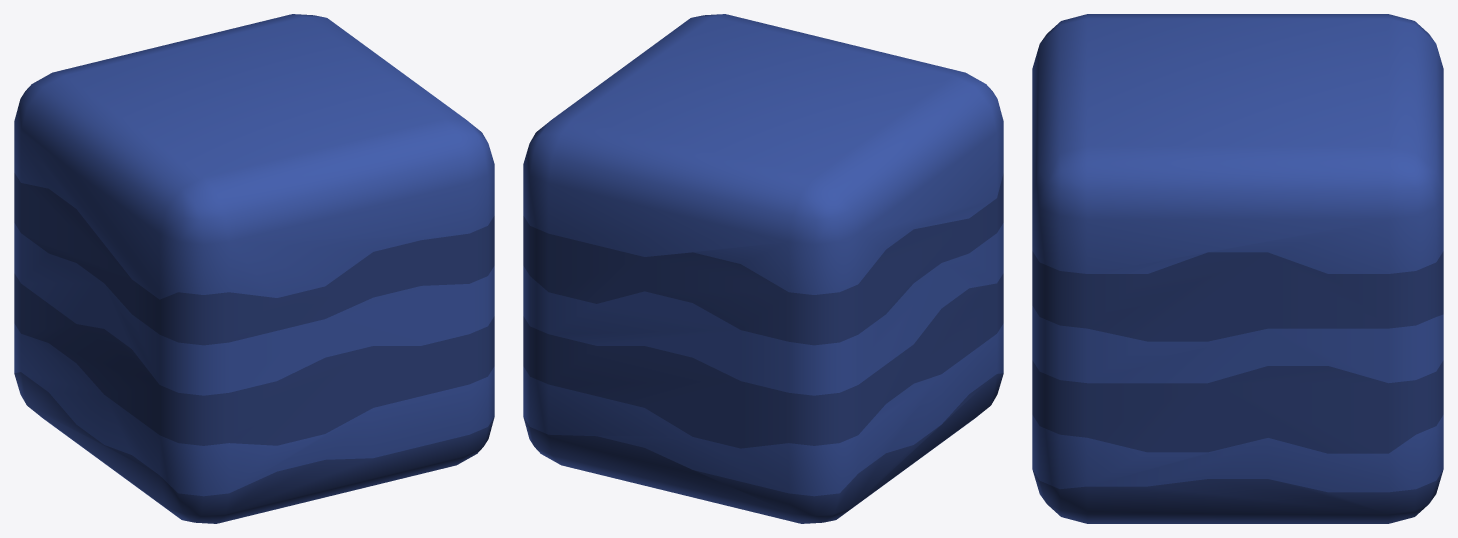
File: Stone025.fbx
3 views of the same model, side by side, from view 1: azimuth 30°, elevation 25°; view 2: azimuth 150°, elevation 25°; view 3: azimuth 270°, elevation 25° (orthographic). The views are drawn at different scales.
Parts seen in each view (by area): view 1: Stone025; view 2: Stone025; view 3: Stone025.
Boxes of the visible parts, bbox=[...] form: Stone025: bbox=[14, 14, 494, 523]; Stone025: bbox=[523, 14, 1003, 523]; Stone025: bbox=[1032, 14, 1443, 523].
Size of the model in its own units: 156 by 156 by 156.
